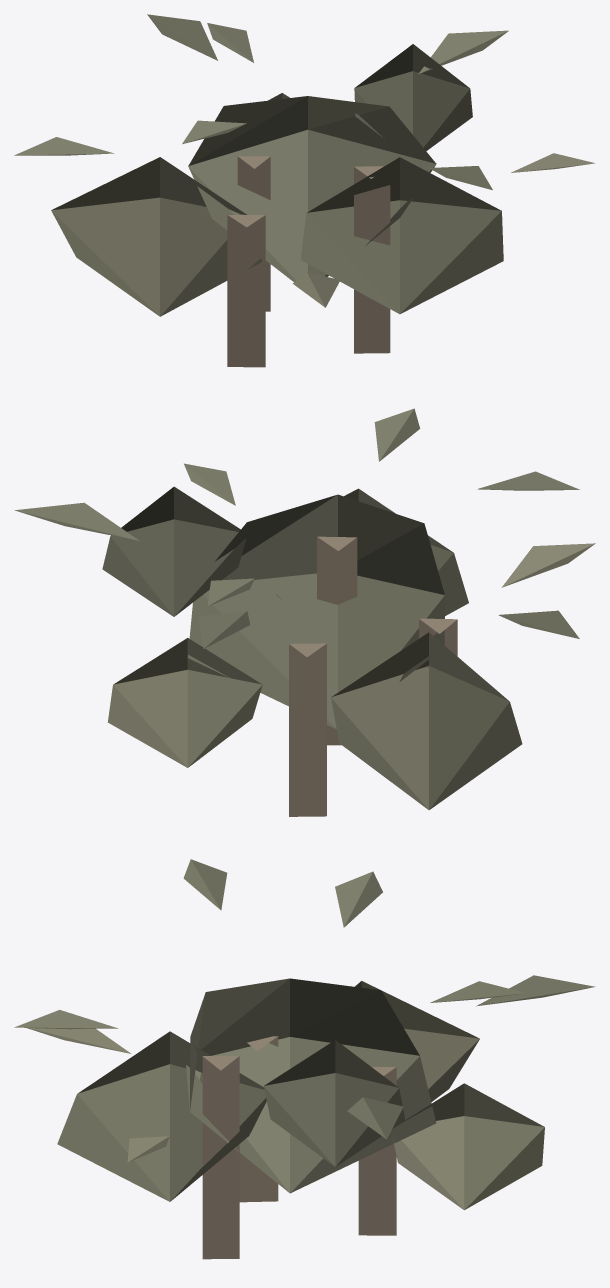
File: guan.dujuan@subadult__winter.glb
The picture shows the model from 3 angles, top to bottom: view 1: azimuth 30°, elevation 25°; view 2: azimuth 150°, elevation 25°; view 3: azimuth 270°, elevation 25°; orthographic projection. The views are drawn at different scales.
Visible parts, largest first — view 1: guan.dujuan@subadult__winter; view 2: guan.dujuan@subadult__winter; view 3: guan.dujuan@subadult__winter.
Boxes of the visible parts, x1,y1,x2,y2 form: guan.dujuan@subadult__winter: [14, 14, 594, 367]; guan.dujuan@subadult__winter: [15, 408, 595, 816]; guan.dujuan@subadult__winter: [14, 859, 595, 1259].
Size of the model in its own units: 1.46 by 0.7716 by 1.35.
